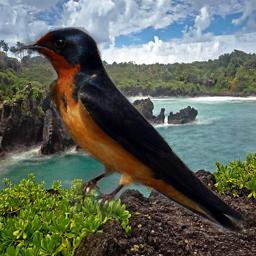Swallow: (17, 27, 246, 238)
